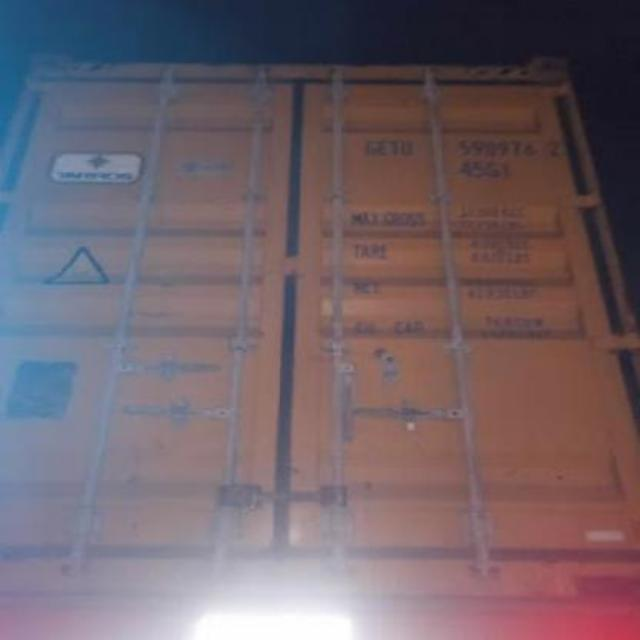0: (484, 134, 496, 164)
2: (546, 135, 564, 167)
5: (458, 130, 472, 162)
6: (526, 130, 540, 168)
7: (508, 130, 522, 162)
9: (494, 132, 508, 160), (471, 134, 484, 162)
E: (378, 135, 390, 161)
G: (364, 132, 378, 160)
T: (386, 128, 398, 162)
U: (398, 133, 412, 157)
